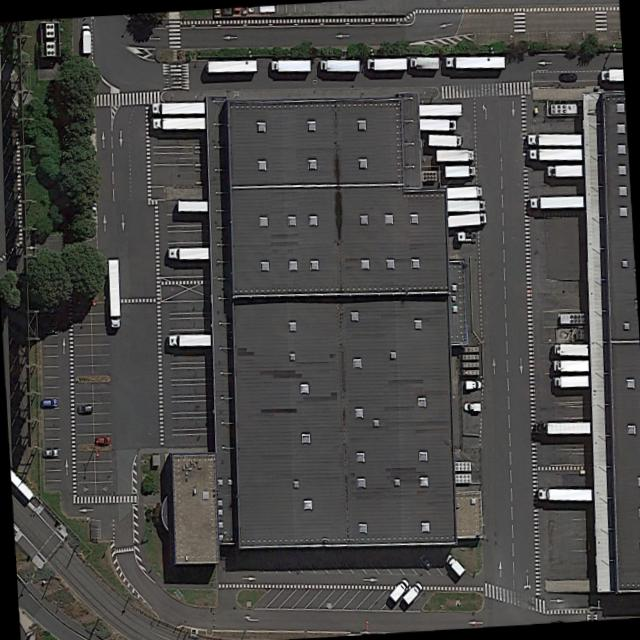large-vehicle: (108, 259, 121, 327), (538, 488, 592, 501), (528, 133, 582, 146), (536, 421, 591, 433), (151, 102, 205, 114), (530, 196, 584, 208), (152, 117, 205, 129), (445, 57, 505, 67), (528, 149, 582, 160), (448, 212, 487, 227), (168, 247, 209, 260), (167, 334, 211, 346), (390, 578, 411, 602), (447, 186, 483, 199), (447, 200, 486, 212), (553, 375, 589, 388), (445, 554, 466, 576), (437, 149, 474, 161), (403, 582, 423, 604), (320, 60, 360, 71), (271, 60, 311, 71), (553, 344, 589, 356), (420, 119, 456, 131), (368, 58, 407, 69), (429, 135, 463, 147), (553, 360, 589, 371), (546, 165, 582, 176), (445, 165, 476, 177), (410, 57, 440, 69), (602, 69, 624, 81), (82, 25, 91, 53)
small-vehicle: (419, 552, 435, 570), (464, 379, 482, 391), (463, 401, 481, 413), (560, 71, 577, 82), (42, 398, 57, 408), (96, 435, 110, 445), (79, 406, 93, 415), (44, 450, 59, 458)
